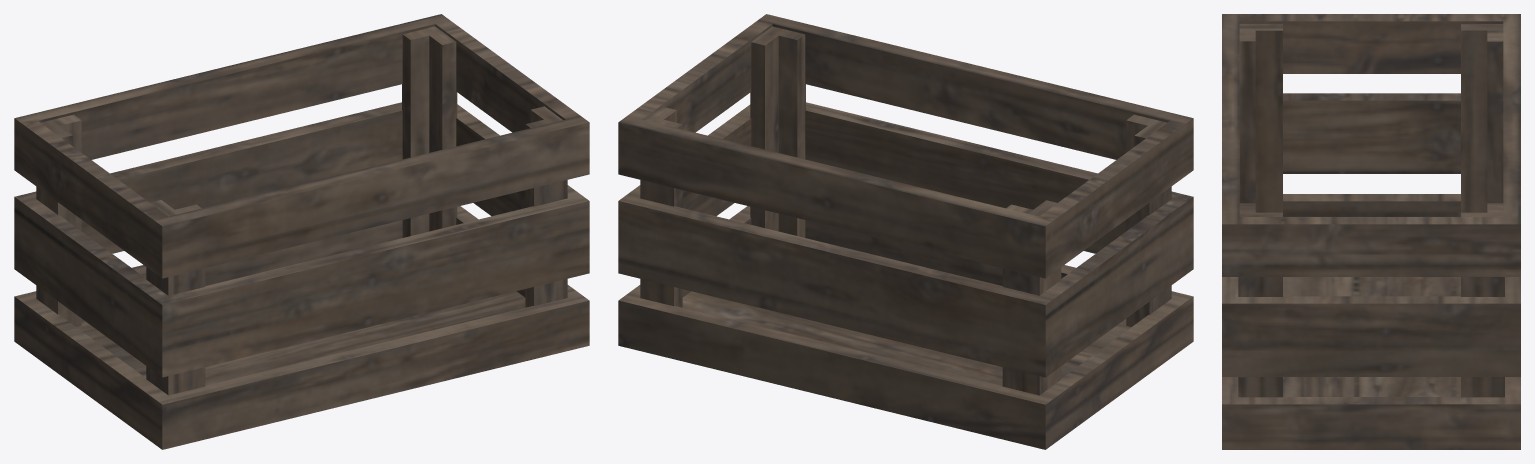
File: slatted_crate.glb
The picture shows the model from 3 angles, left to right: view 1: azimuth 30°, elevation 25°; view 2: azimuth 150°, elevation 25°; view 3: azimuth 270°, elevation 25°; orthographic projection.
Parts seen in each view (by area): view 1: Crate_Wood Planks_0; view 2: Crate_Wood Planks_0; view 3: Crate_Wood Planks_0.
Part boxes in pixels (x1,y1,x2,y2): Crate_Wood Planks_0: (14, 14, 589, 449); Crate_Wood Planks_0: (618, 14, 1193, 449); Crate_Wood Planks_0: (1222, 14, 1520, 449).
Size of the model in its own units: 0.3103 by 0.1551 by 0.1862.
1 material, 1 textured.
